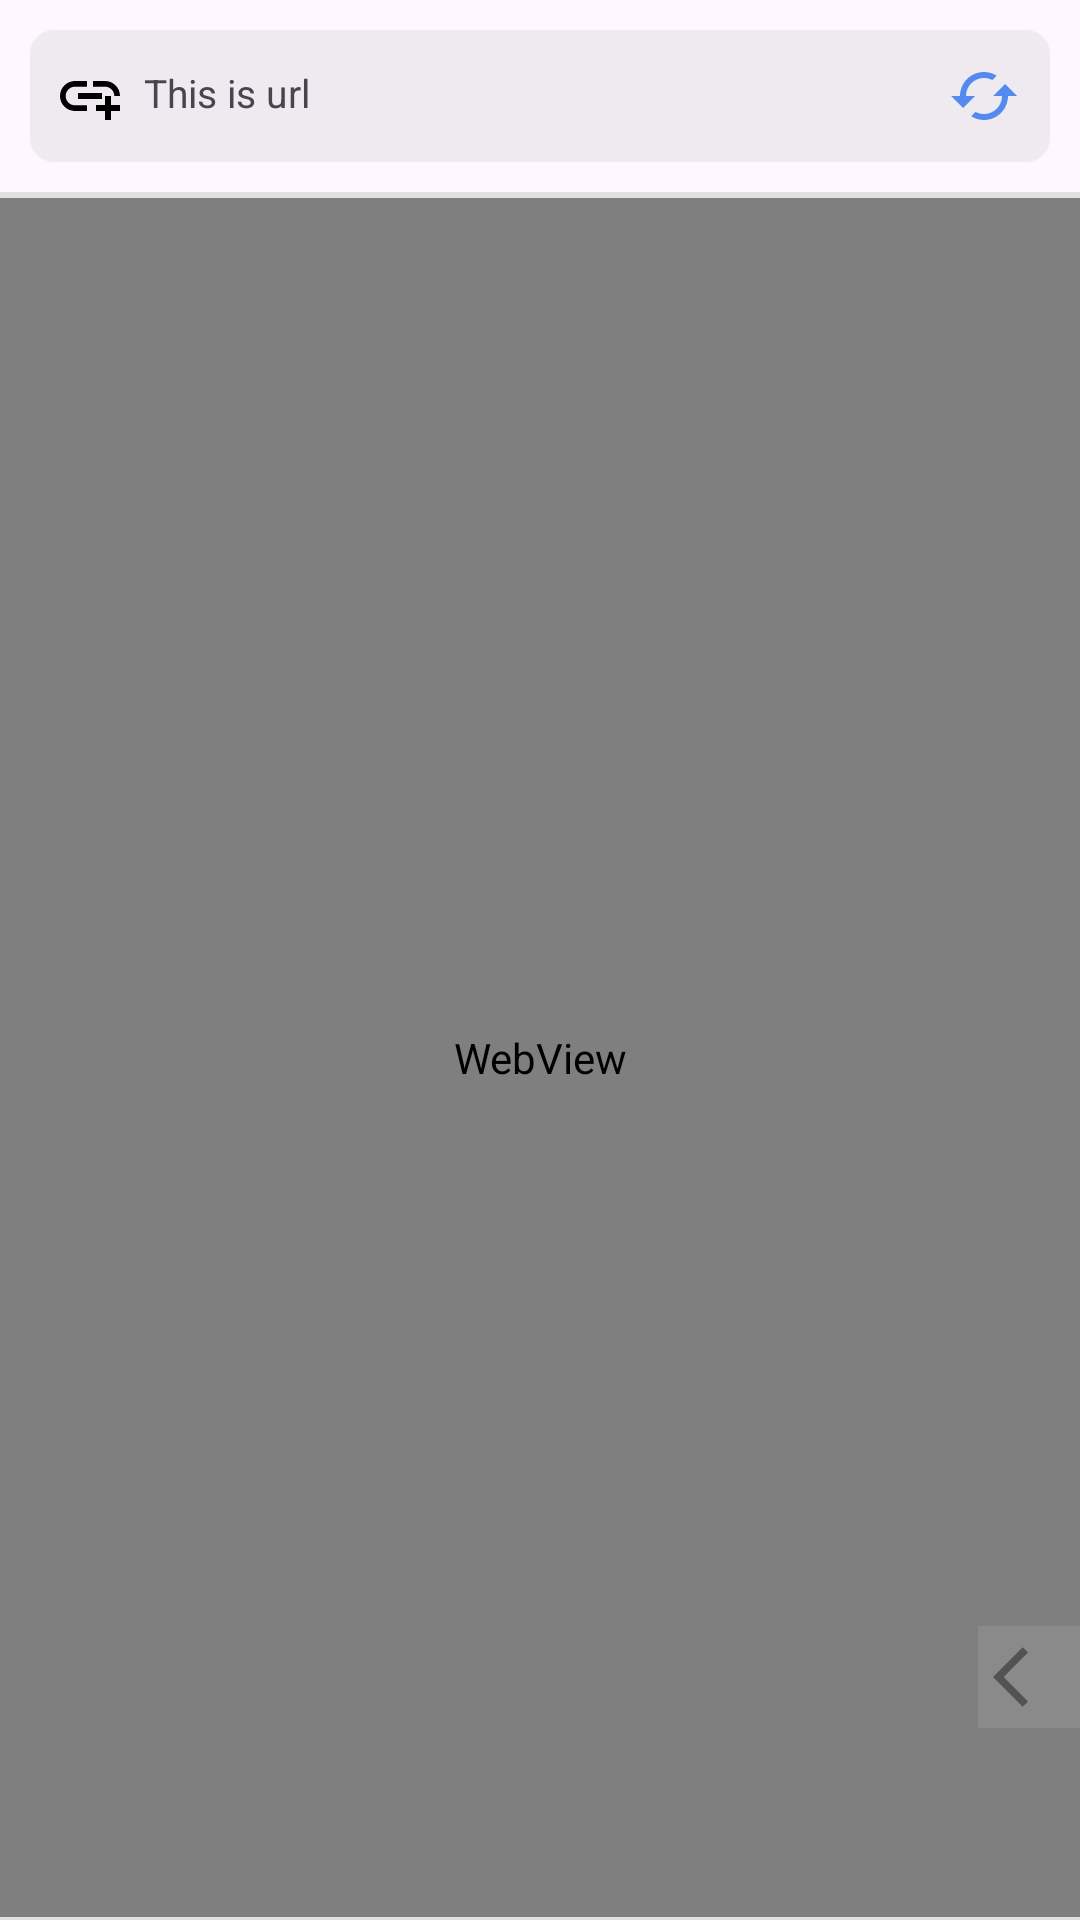

Screen size 1080*1920. Icon name, then its box in pixels as [x1,y1,x2,y2]:
add link: [60,81,120,120]
arrow back: [978,1626,1080,1728]
cached: [951,72,1017,120]
